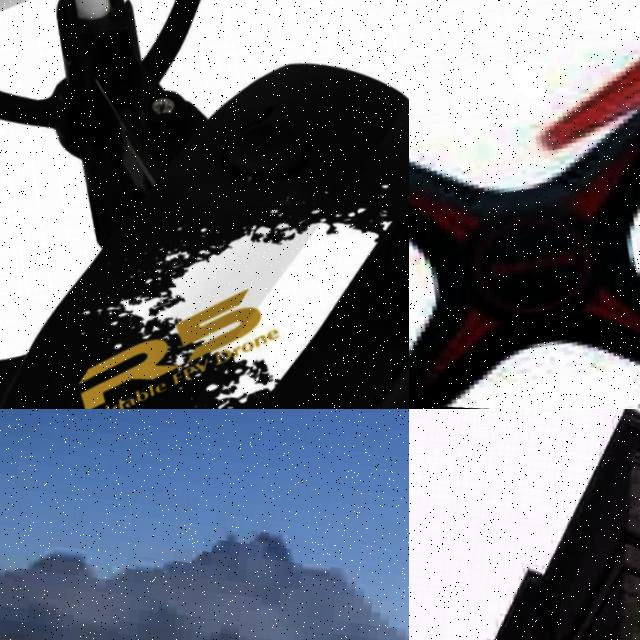drone: (0, 0, 409, 409), (409, 0, 640, 409)
